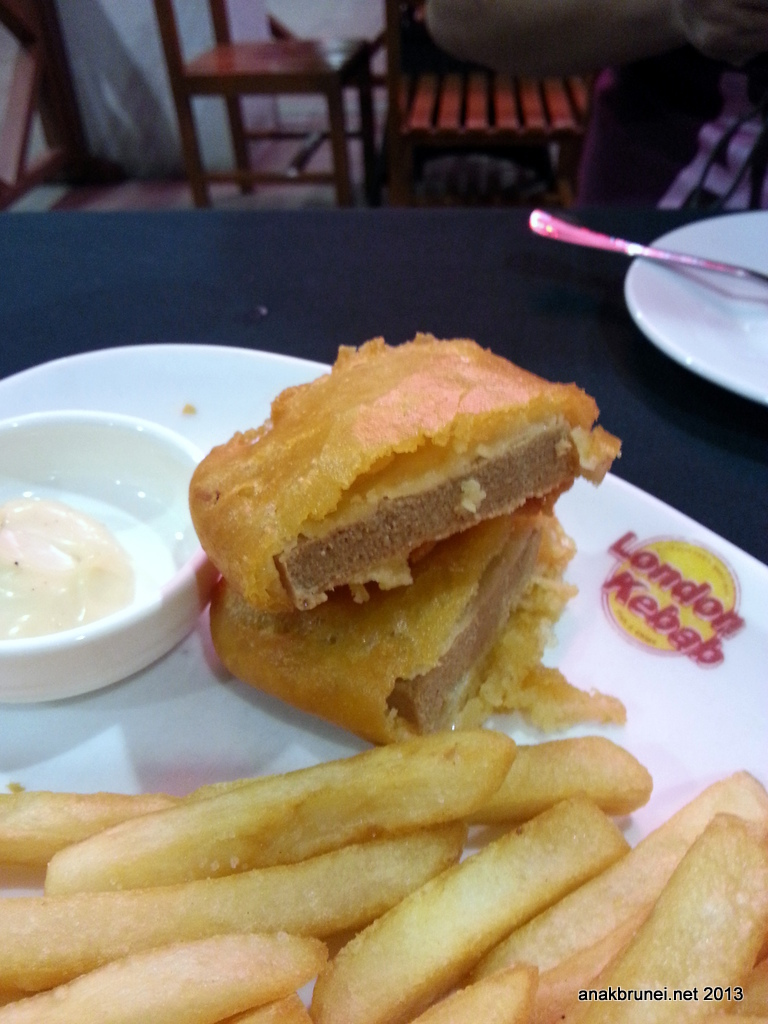French fries: (0, 691, 708, 1008)
